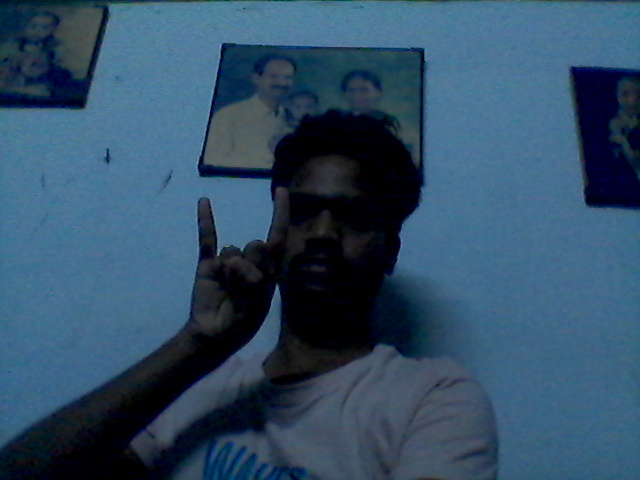I Love You: (187, 182, 289, 351)
